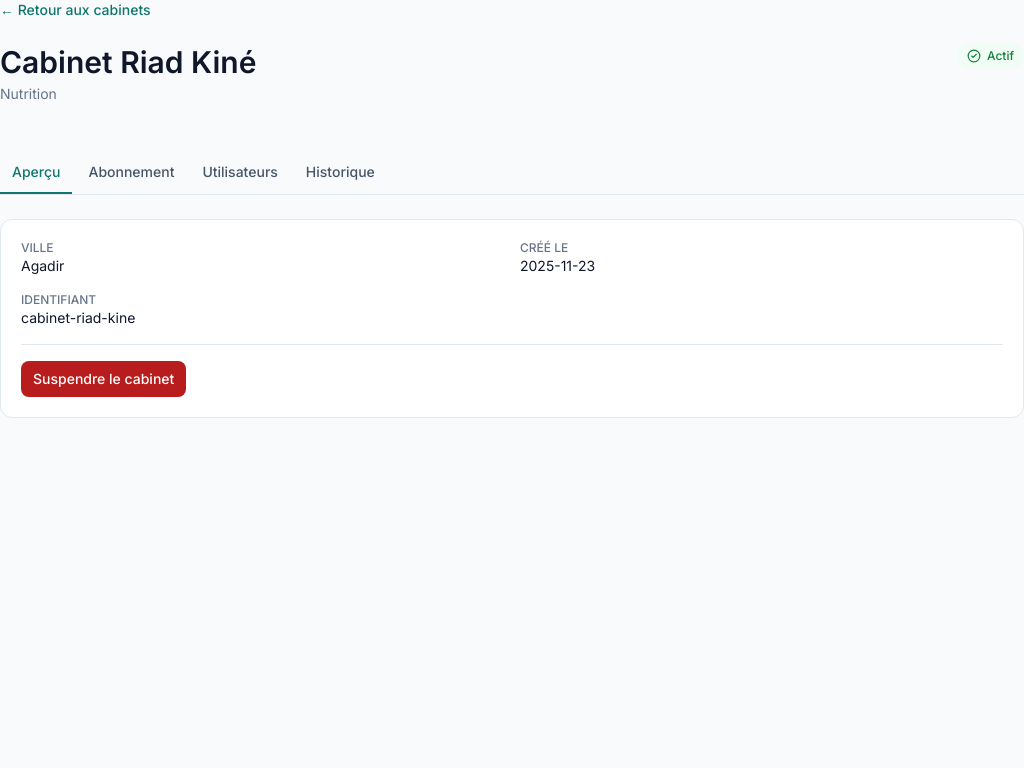
Test: TenantDetailPage › a grace subscription (Riad Kiné) offers renewal, forced blackout and cancellation, and manual renewal restores Actif
Click the tab "Abonnement".
click(132, 173)  # box [76,152,186,194]
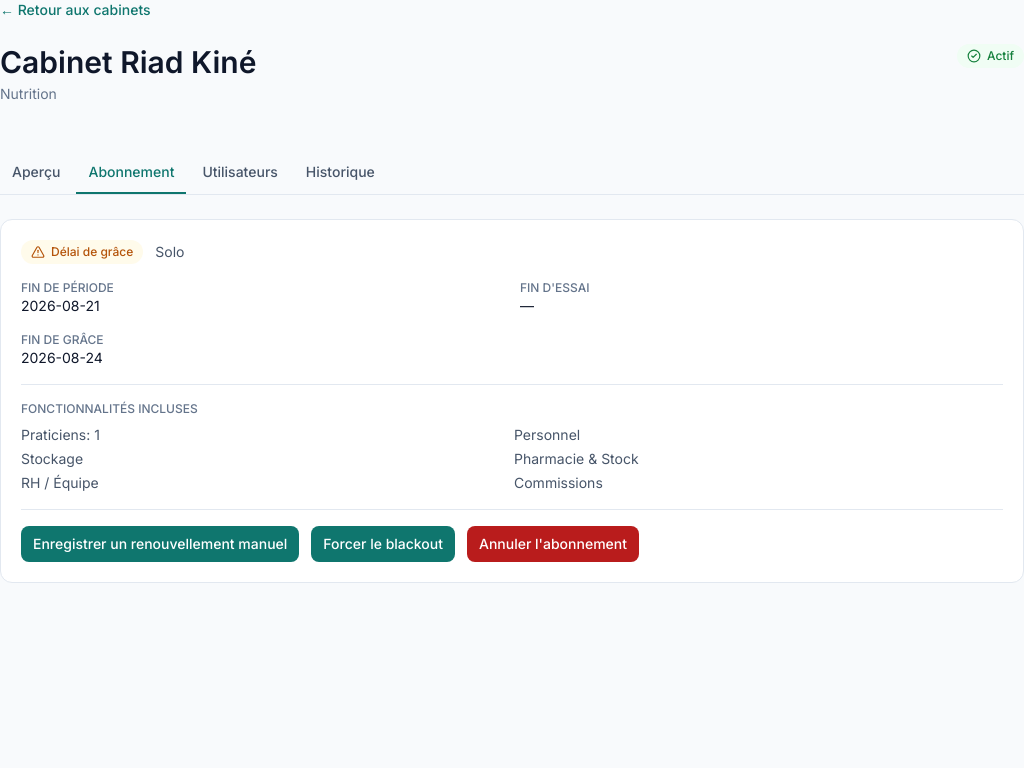
Click the button "Enregistrer un renouvellement manuel".
click(160, 544)  # box [21,526,299,562]
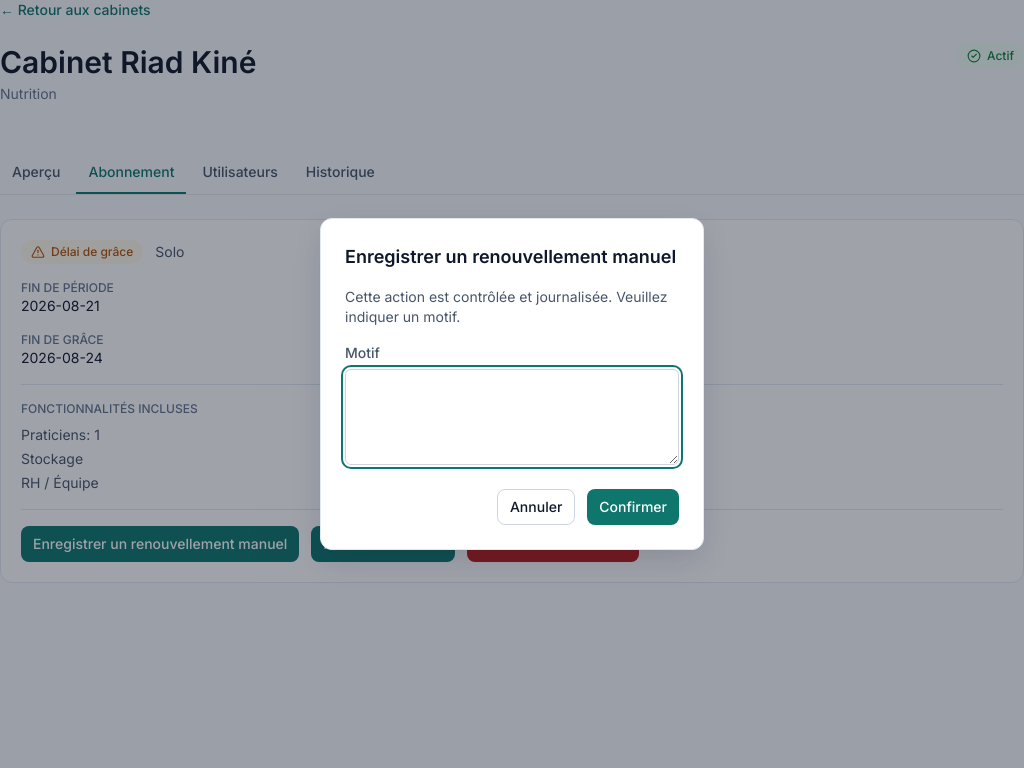
Click the button "Confirmer".
click(633, 507)  # box [587,489,679,525]
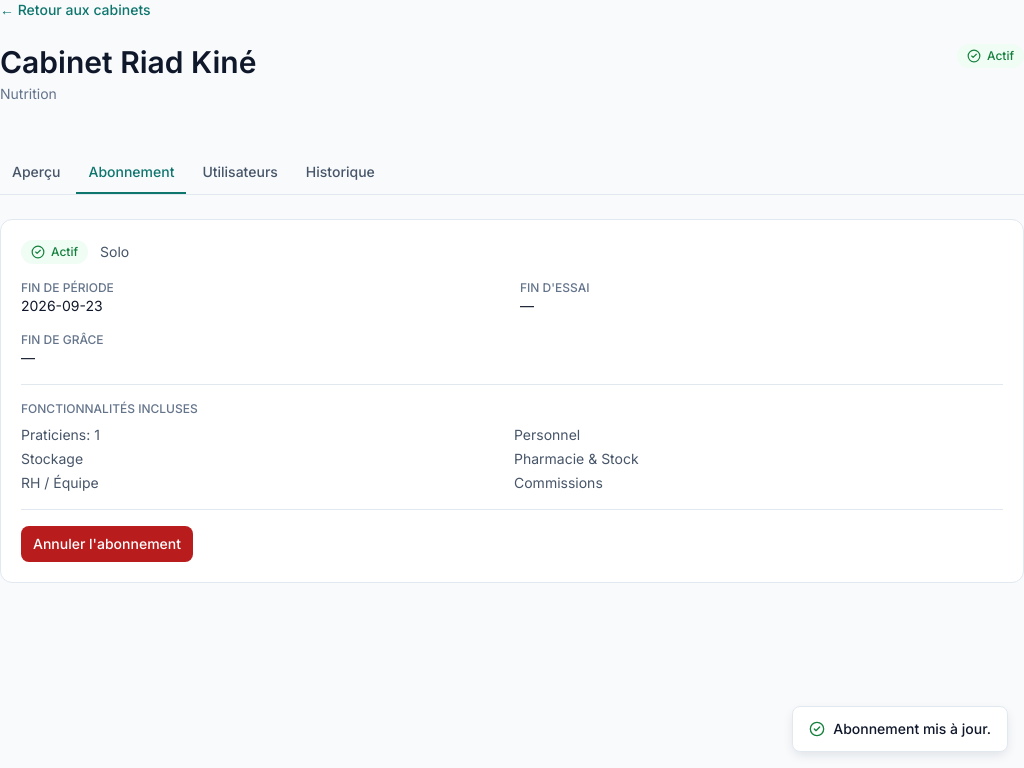
Expected: the text "Actif" next to "Solo" is shown, [51,244,78,259]
